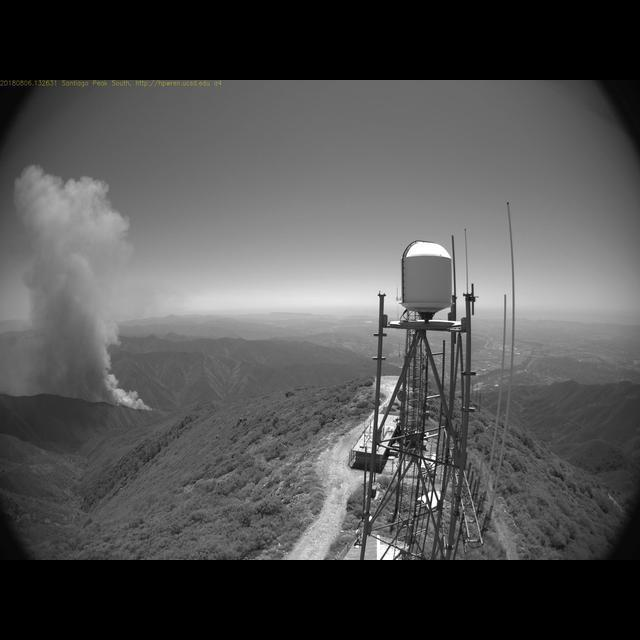Smoke: (0, 163, 152, 416)
